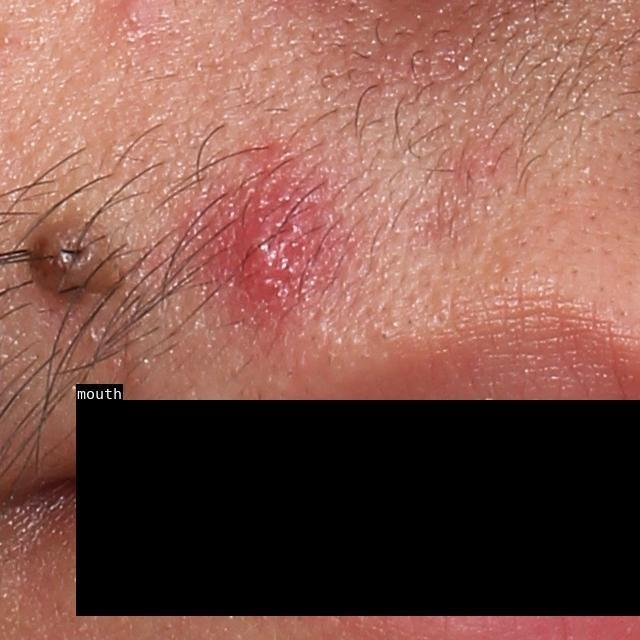nevus: (22, 214, 124, 309)
nodule: (213, 160, 318, 302)
